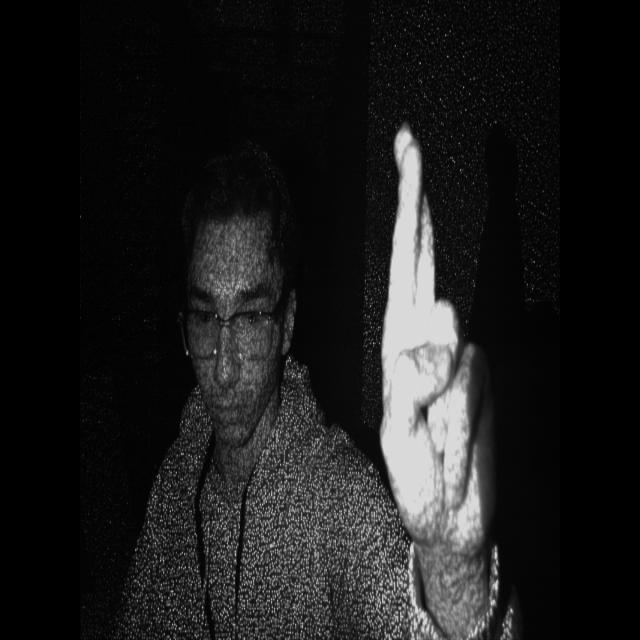R: (360, 105, 517, 576)
